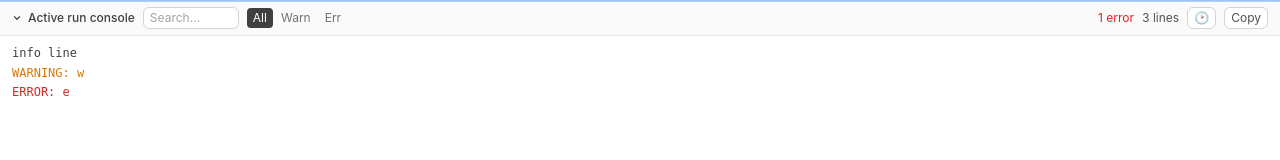
it: Console › filters to errors only via the level chip
The image size is (1280, 160).
Click the button titled "Errors only" at {"x": 333, "y": 18}, box [319,8,347,28]
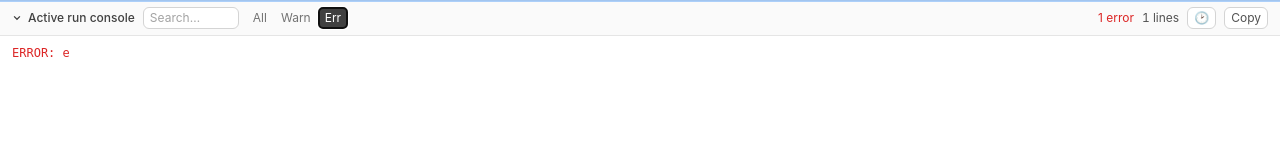
Expected: the text "info line" is gone
Expected: the text "WARNING: w" is gone
Expected: the text "ERROR: e" is shown, [12,46,70,60]
